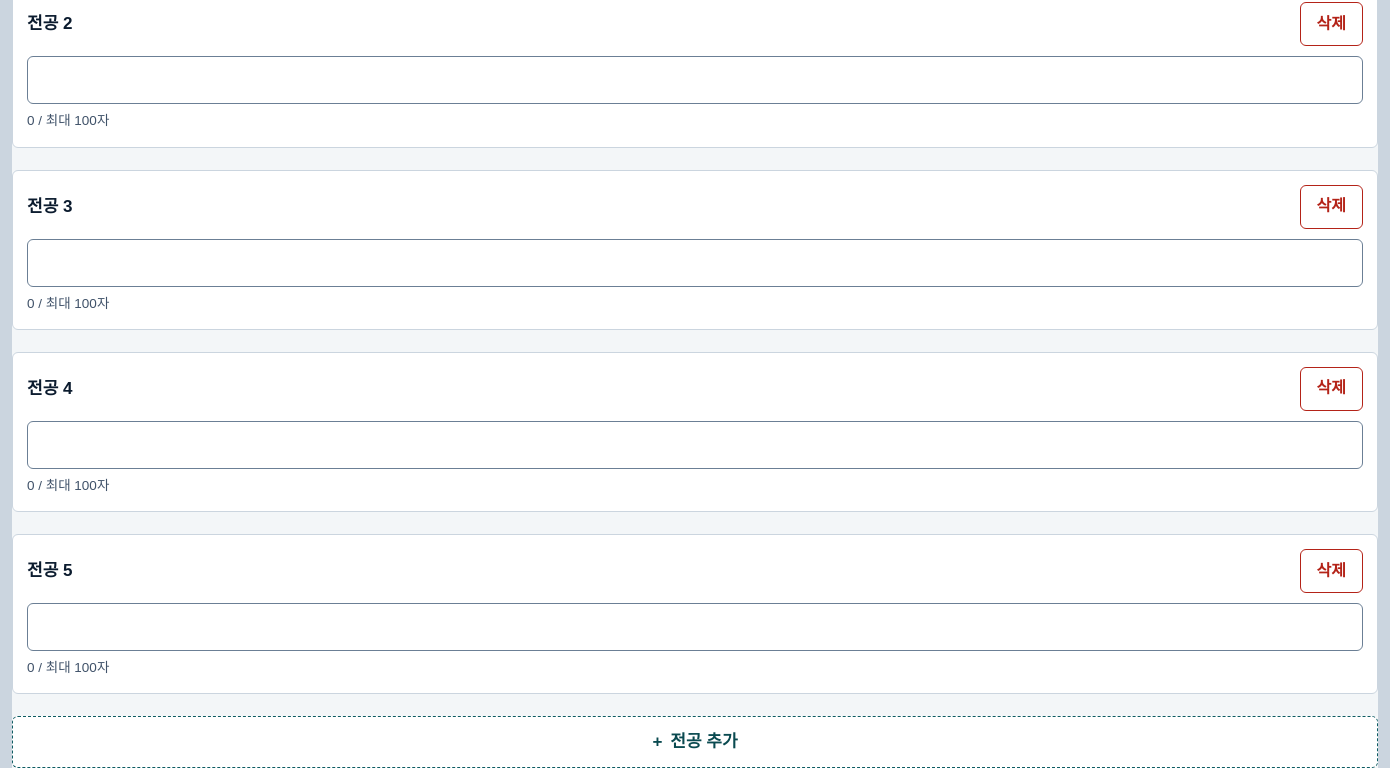
Test: 개수·길이 제한 (T088) › 최대 개수에서 추가 버튼이 멈추고 안내 문구로 바뀐다(전공 6)
(page scrolled)
Click the button "+ 전공 추가" at x=695, y=742, box [12,716,1378,767]
(page scrolled)
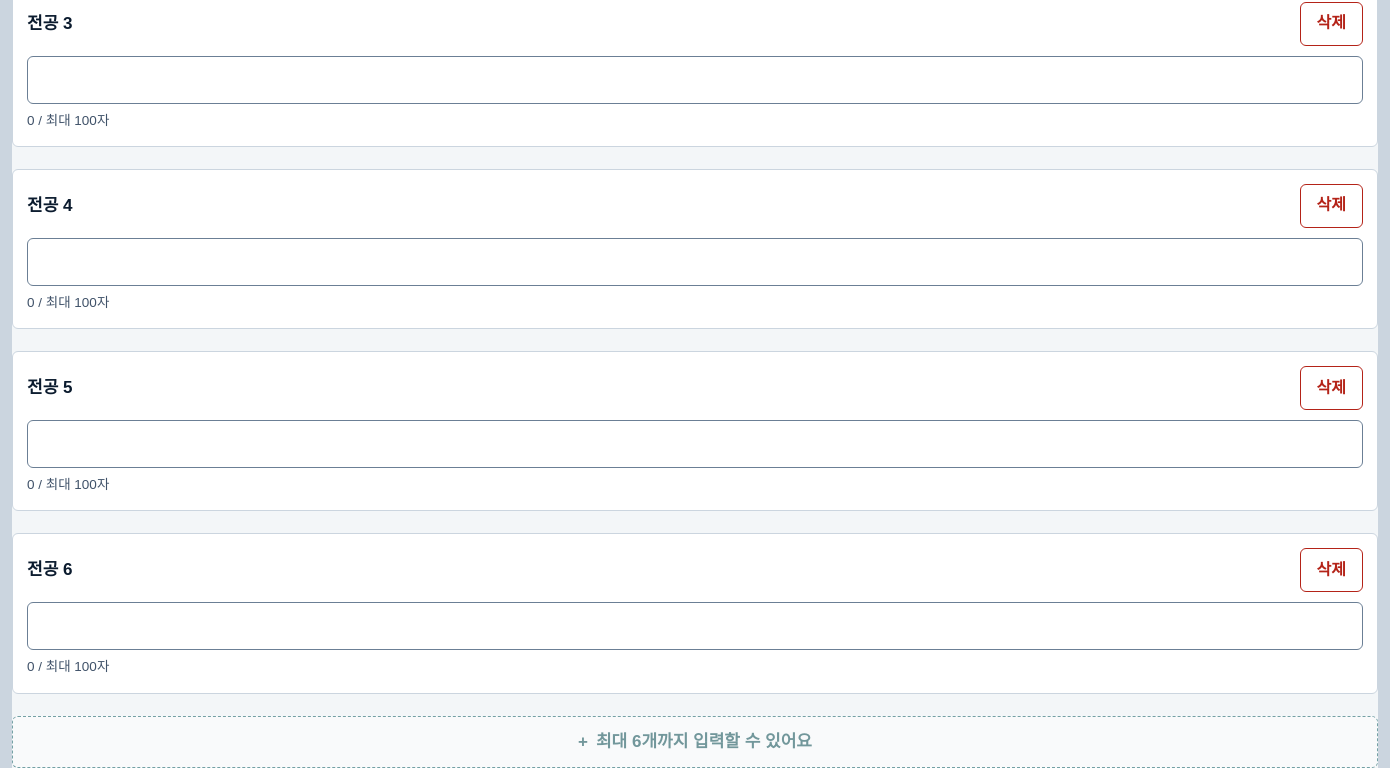
Check: the button "+ 최대 6개까지 입력할 수 있어요" is disabled, box [12,716,1378,767]
